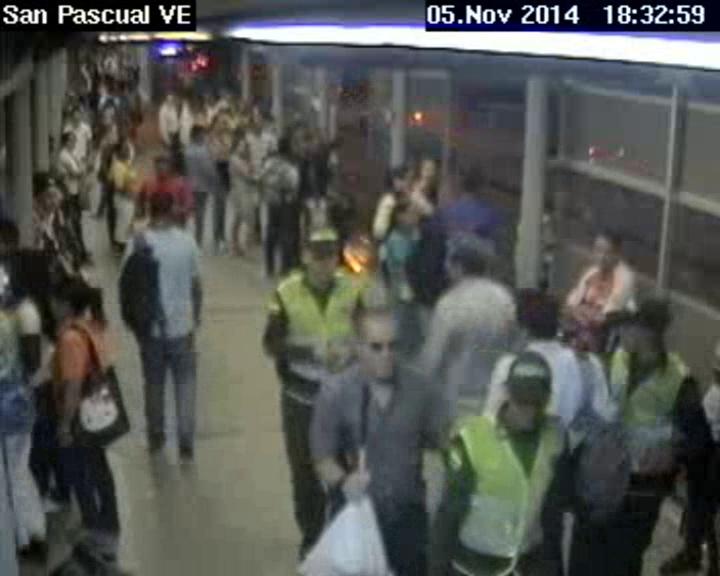person: (497, 347, 557, 438), (608, 289, 679, 365), (350, 303, 399, 376), (437, 230, 499, 286), (295, 226, 343, 289), (515, 286, 561, 343), (48, 275, 96, 322), (25, 171, 61, 216), (1, 251, 34, 299), (591, 222, 621, 274), (383, 160, 415, 194), (1, 215, 23, 258), (146, 194, 174, 227), (457, 168, 483, 199), (388, 199, 413, 229), (417, 151, 438, 181), (183, 123, 208, 148), (227, 133, 249, 160), (150, 156, 175, 179), (111, 138, 131, 159), (59, 130, 77, 151), (275, 135, 291, 158), (208, 114, 223, 135), (250, 114, 264, 133), (100, 81, 116, 97), (69, 108, 84, 123), (164, 89, 177, 104)
